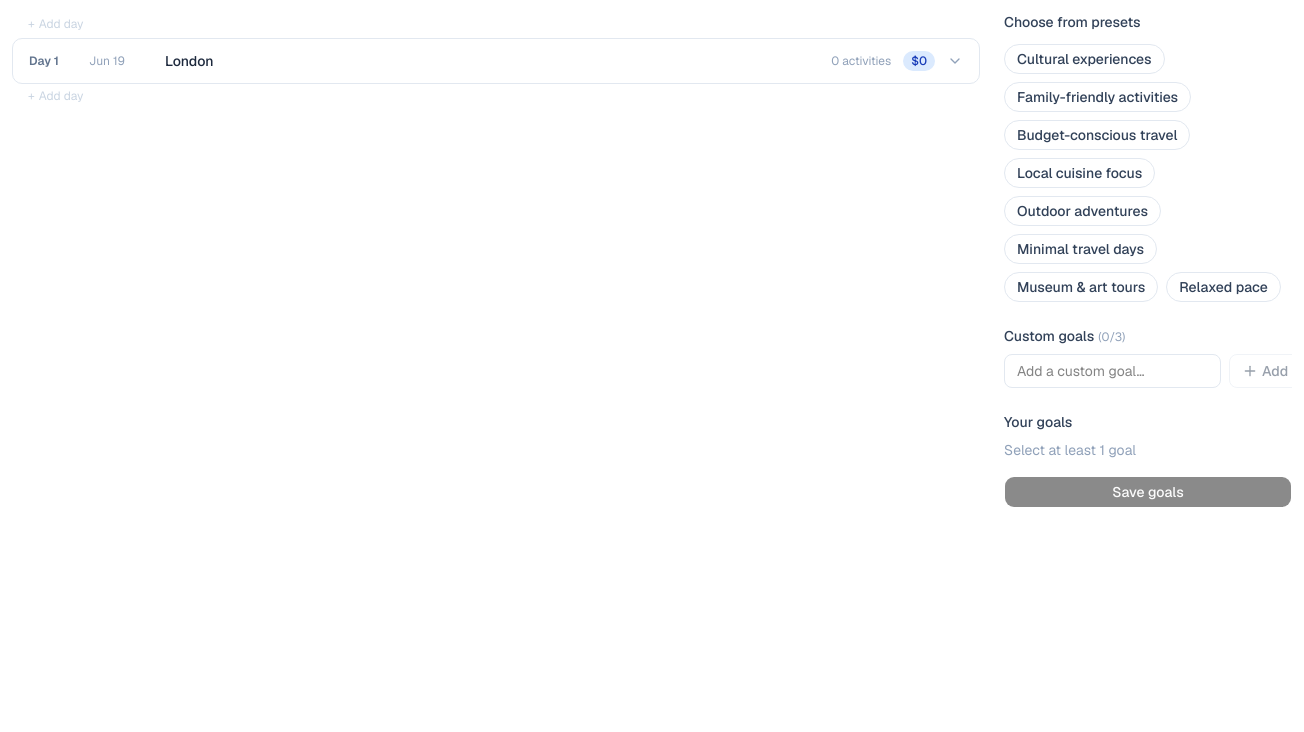
shows GoalSuggestionCard when validation returns a result
This screenshot has width=1304, height=732.
Expected: the text "London" is shown, 165,52 -> 214,70
Click the 1st button "+ Add day" at coordinates (61, 24), box 12,12 -> 980,36
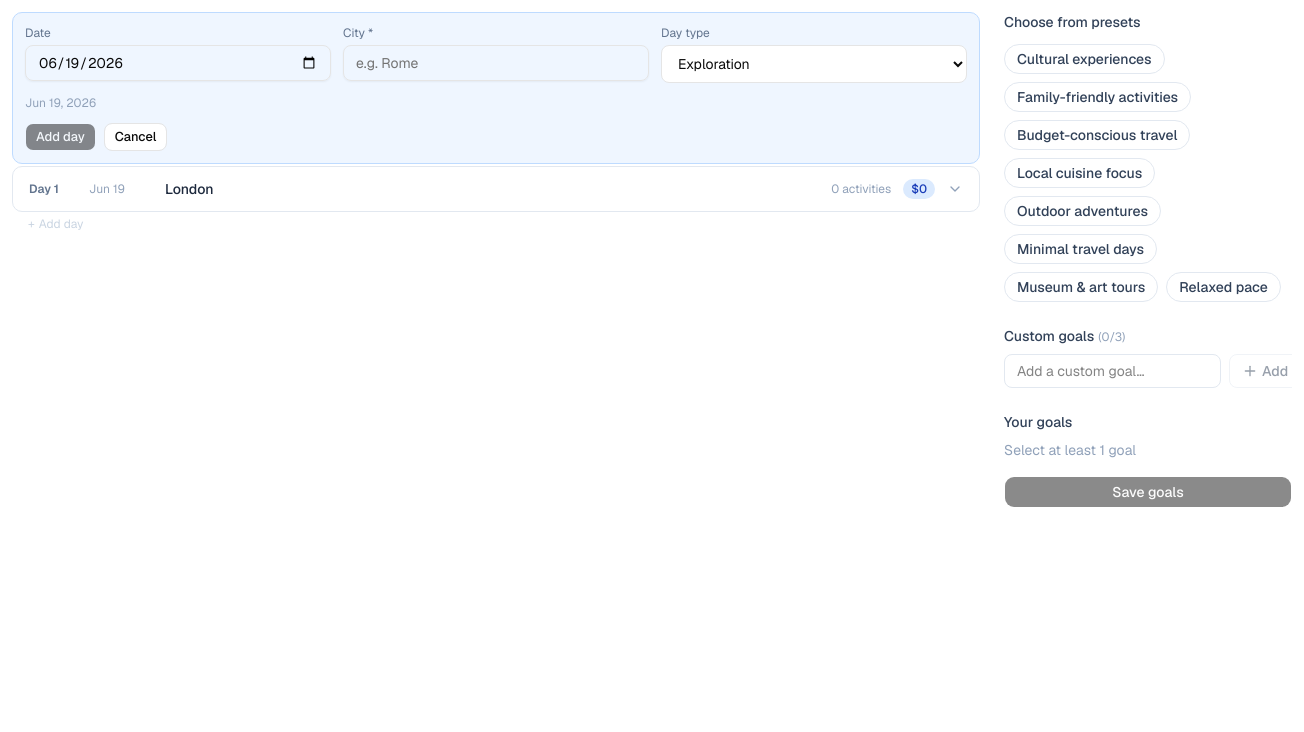
Type "Paris" into the field labelled "City *" at coordinates (496, 63), box 343,45 -> 649,81
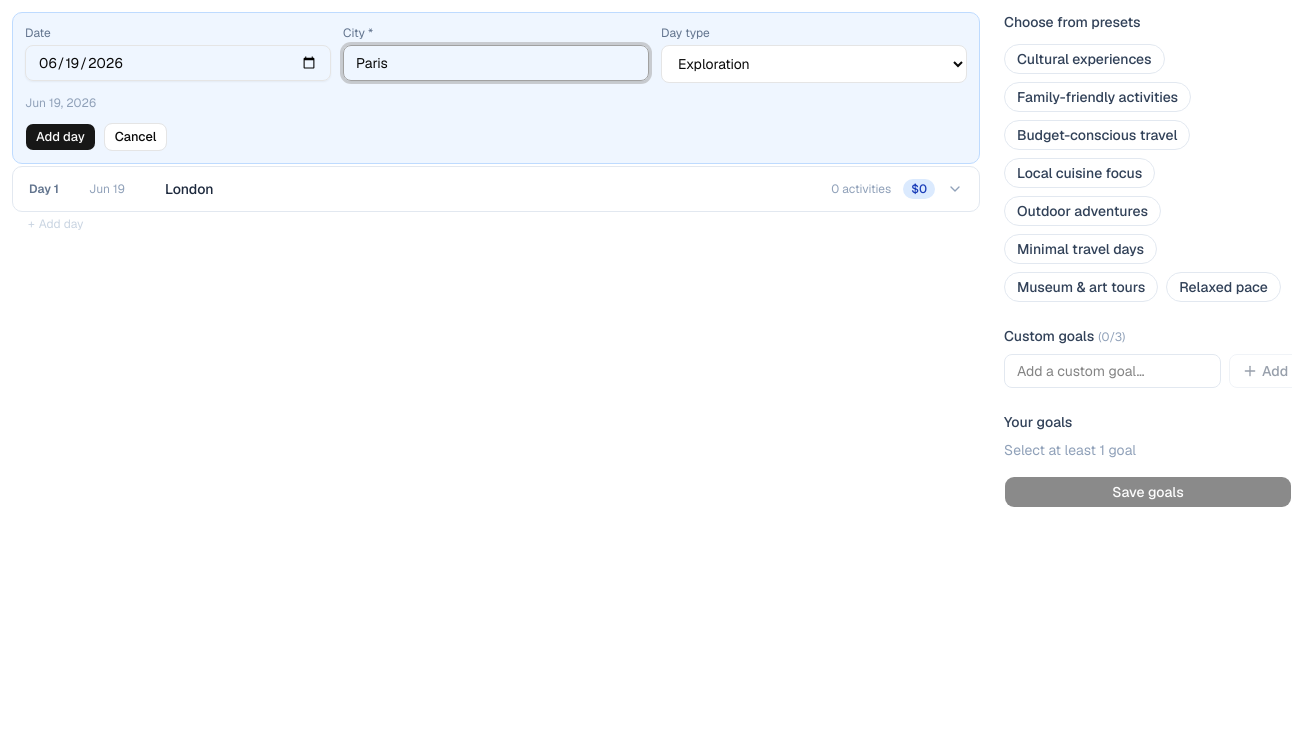
Click the button "Add day" at coordinates (60, 137), box 25,123 -> 96,151
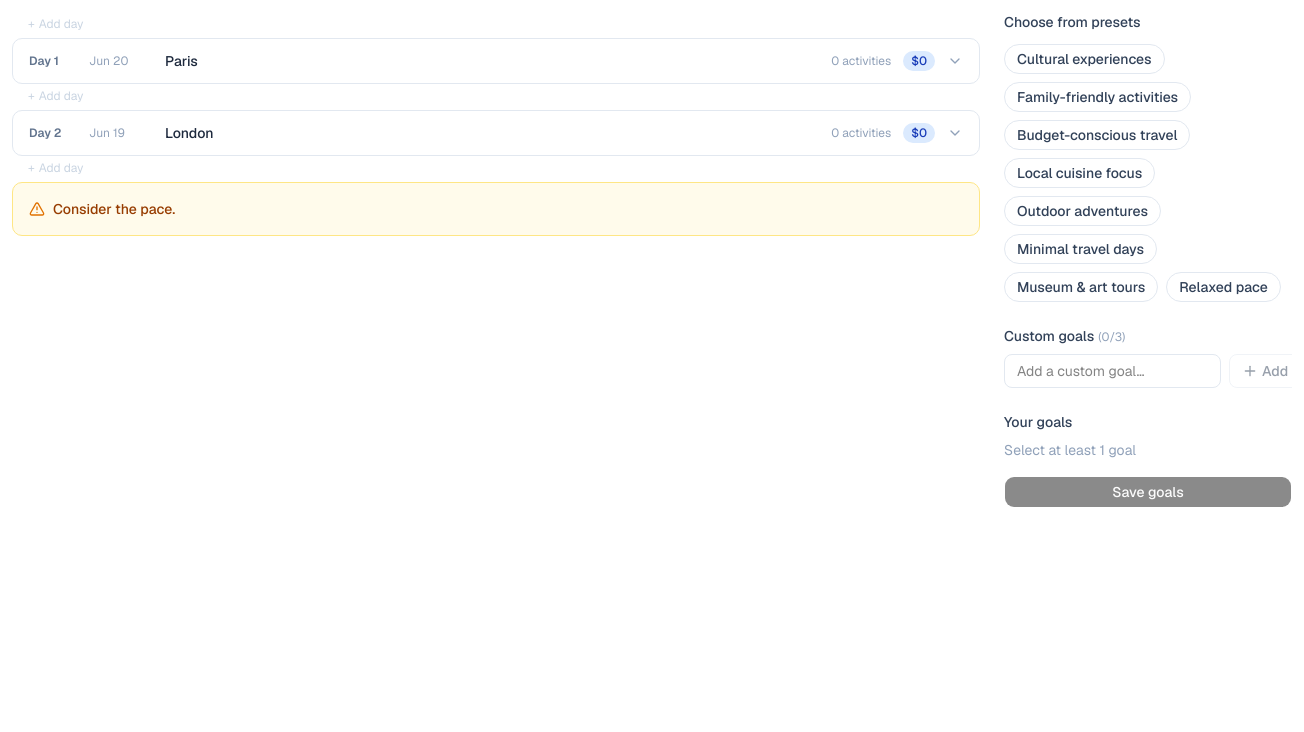
Expected: the text "Consider the pace." is shown, 53,200 -> 175,218
